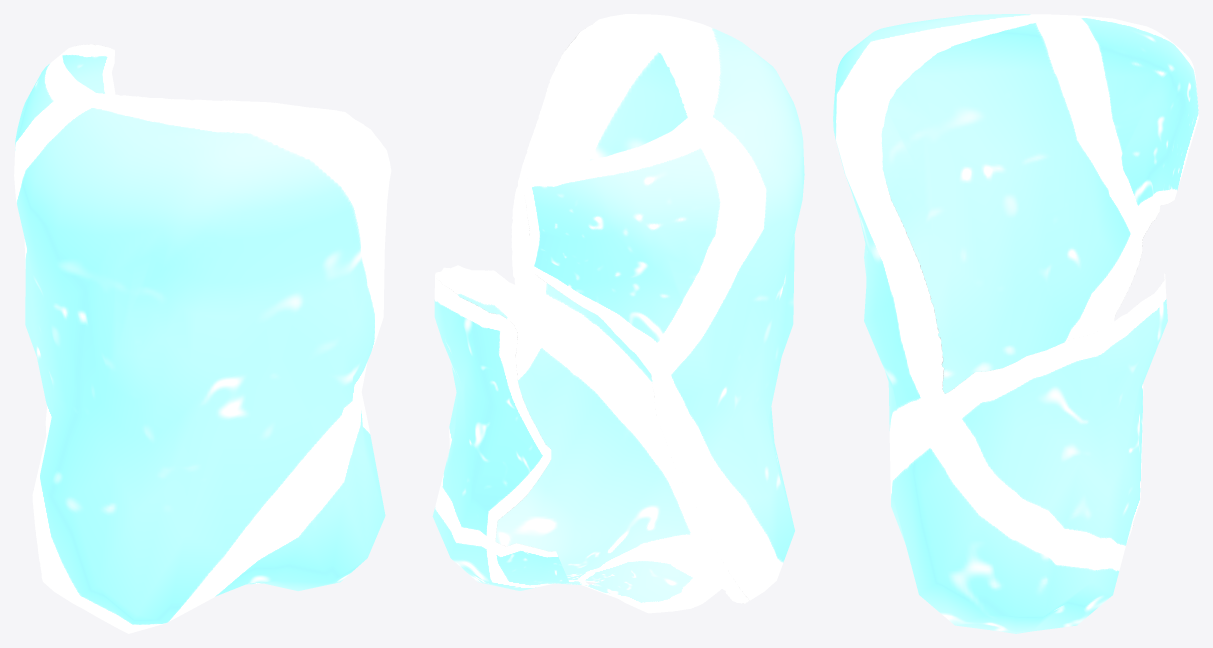
File: WaterFalling.fbx
The picture shows the model from 3 angles, left to right: view 1: azimuth 30°, elevation 25°; view 2: azimuth 150°, elevation 25°; view 3: azimuth 270°, elevation 25°; orthographic projection.
Parts seen in each view (by area): view 1: WaterFall; view 2: WaterFall; view 3: WaterFall.
Boxes of the visible parts, x1,y1,x2,y2 form: WaterFall: (14,44,391,633); WaterFall: (432,14,804,613); WaterFall: (833,14,1198,633).
Size of the model in its own units: 1.94 by 2.76 by 1.73.
